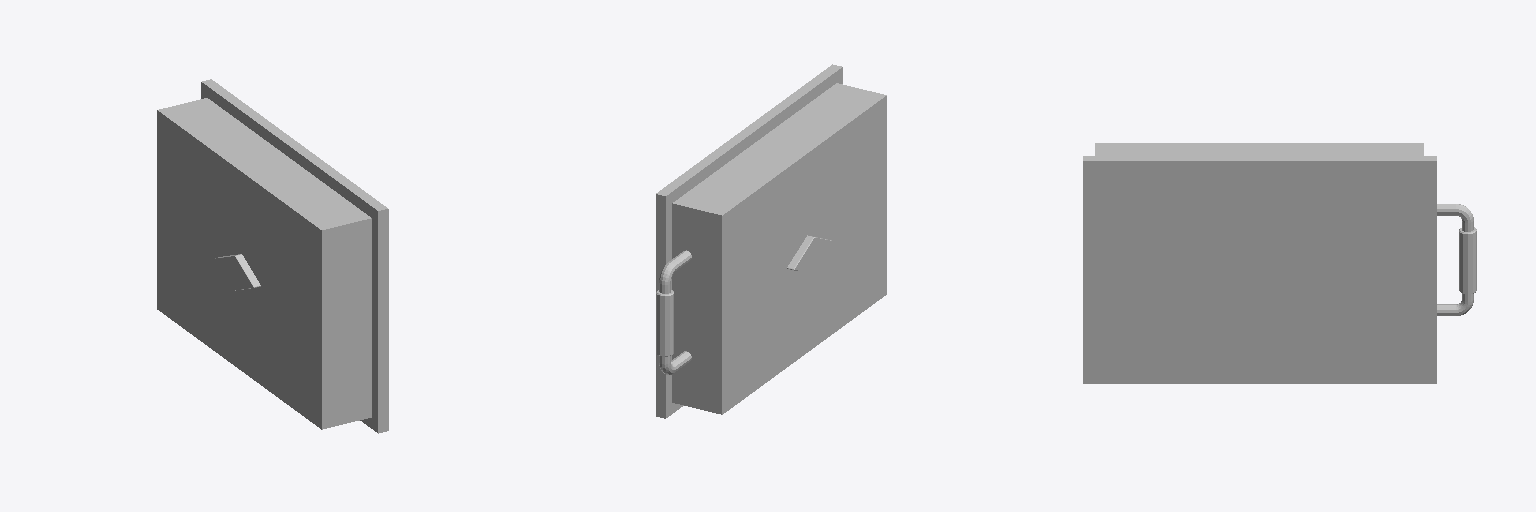
The model's file is SpreadSpectrumTransceiver.obj.
The picture shows the model from 3 angles: view 1: azimuth 30°, elevation 25°; view 2: azimuth 150°, elevation 25°; view 3: azimuth 270°, elevation 25°; orthographic projection.
Parts seen in each view (by area): view 1: Object214; view 2: Object214; view 3: Object214.
Boxes of the visible parts, x1,y1,x2,y2 form: Object214: [157, 79, 388, 433]; Object214: [656, 64, 886, 418]; Object214: [1083, 143, 1476, 383].
Bounding box in the file's own units: 6.53 × 20.47 × 32.89.